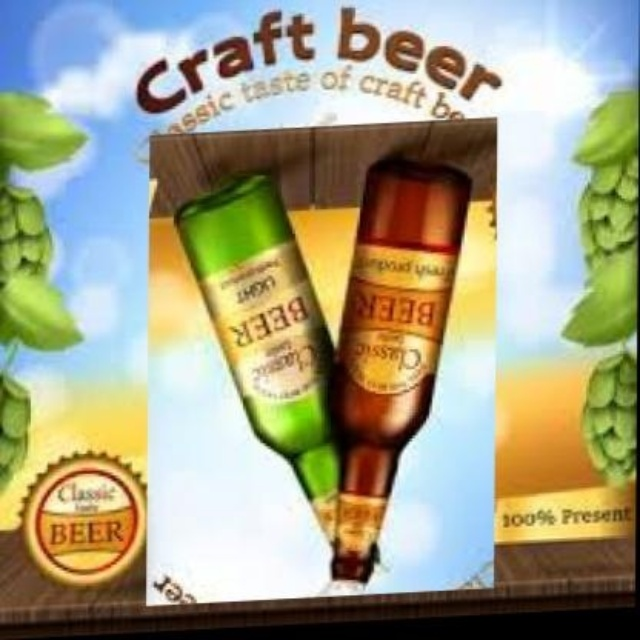trash: (175, 174, 337, 540), (332, 158, 469, 582)
